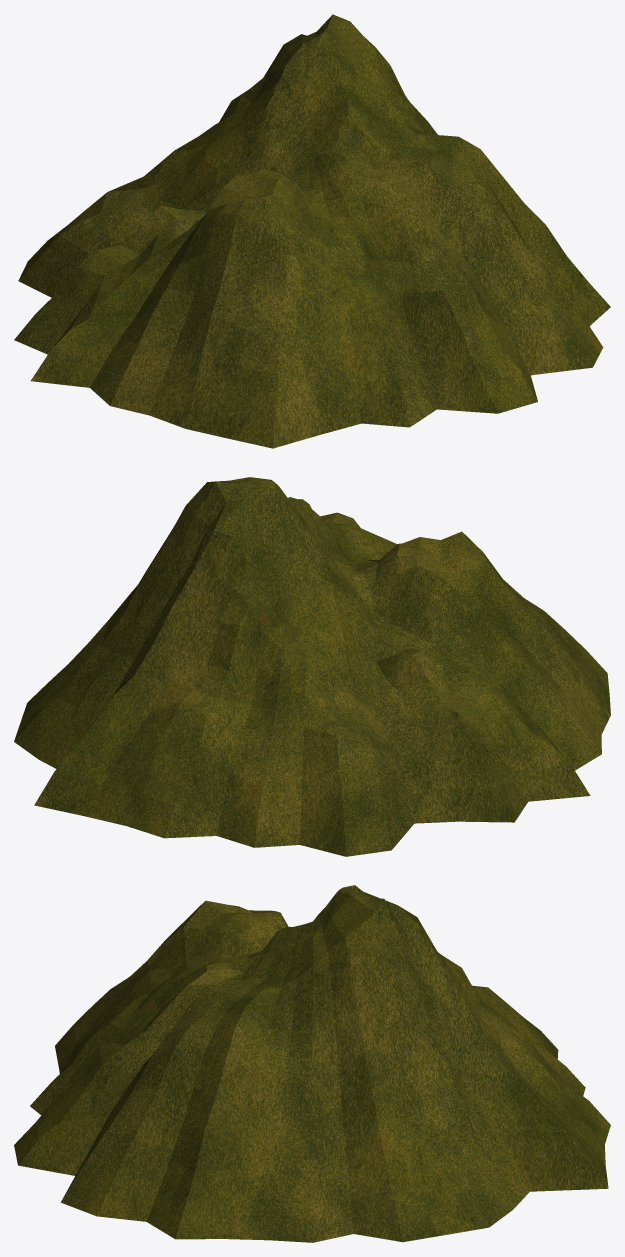
File: sphagnum_hummock_v02.fbx
3 views of the same model, one above another, from view 1: azimuth 30°, elevation 25°; view 2: azimuth 150°, elevation 25°; view 3: azimuth 270°, elevation 25° (orthographic).
Visible parts, largest first — view 1: sphagnum_hummock_v02; view 2: sphagnum_hummock_v02; view 3: sphagnum_hummock_v02.
Part boxes in pixels (<box>): sphagnum_hummock_v02: <box>14,14,610,448</box>; sphagnum_hummock_v02: <box>14,477,610,856</box>; sphagnum_hummock_v02: <box>14,885,610,1242</box>.
Size of the model in its own units: 62.51 by 29.7 by 62.65.
1 material, 1 textured.
